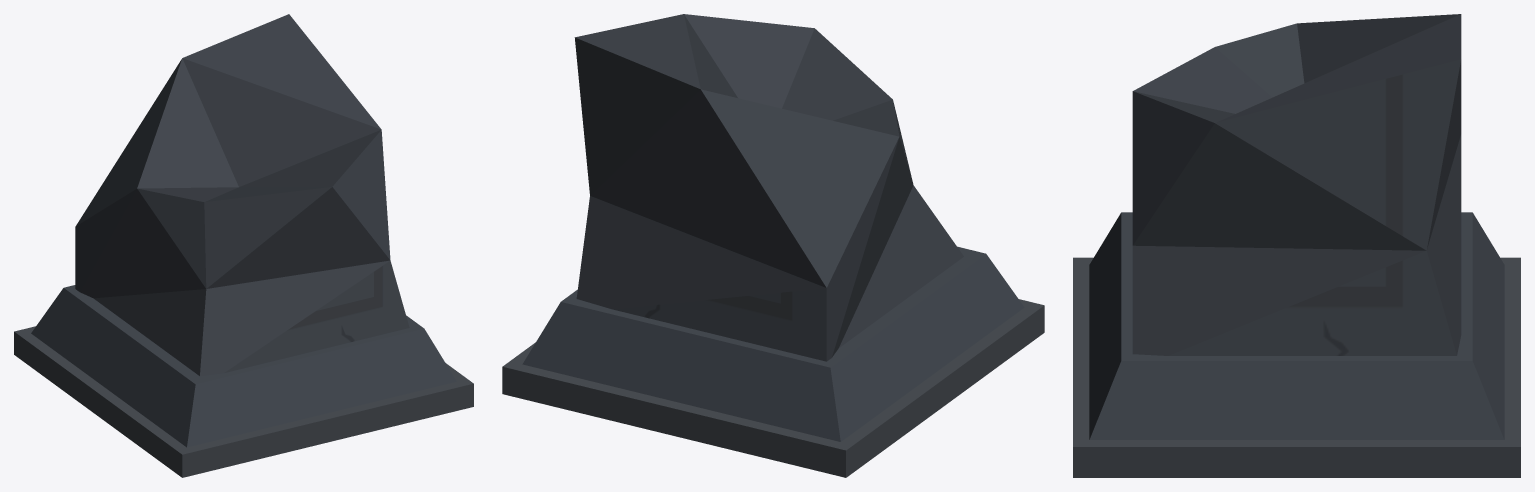
File: Pillar 03.fbx
The picture shows the model from 3 angles, left to right: view 1: azimuth 30°, elevation 25°; view 2: azimuth 150°, elevation 25°; view 3: azimuth 270°, elevation 25°; orthographic projection. The views are drawn at different scales.
Visible parts, largest first — view 1: Pillar_03; view 2: Pillar_03; view 3: Pillar_03.
Part boxes in pixels (x1,y1,x2,y2): Pillar_03: (14, 14, 473, 477); Pillar_03: (502, 14, 1044, 477); Pillar_03: (1073, 14, 1520, 477).
Bounding box in the file's own units: 96 × 93.03 × 96.
